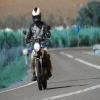motorcycles: (30, 38, 48, 90)
